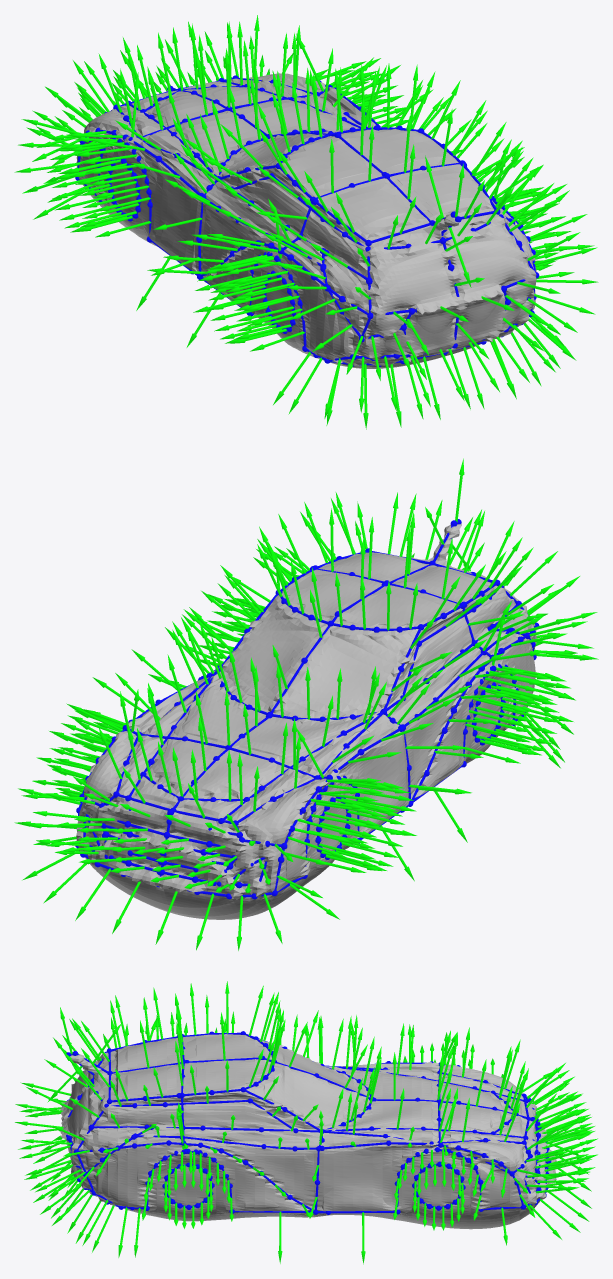
File: ils_car4.gltf
3 renders of one model, top to bottom at view 1: azimuth 30°, elevation 25°; view 2: azimuth 150°, elevation 25°; view 3: azimuth 270°, elevation 25°, orthographic. The views are drawn at different scales.
Size of the model in its own units: 0.5682 by 0.4294 by 1.08.
